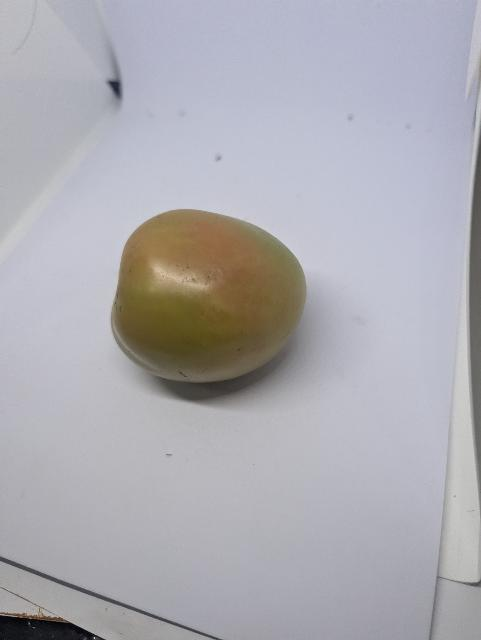breaker: (112, 210, 307, 383)
